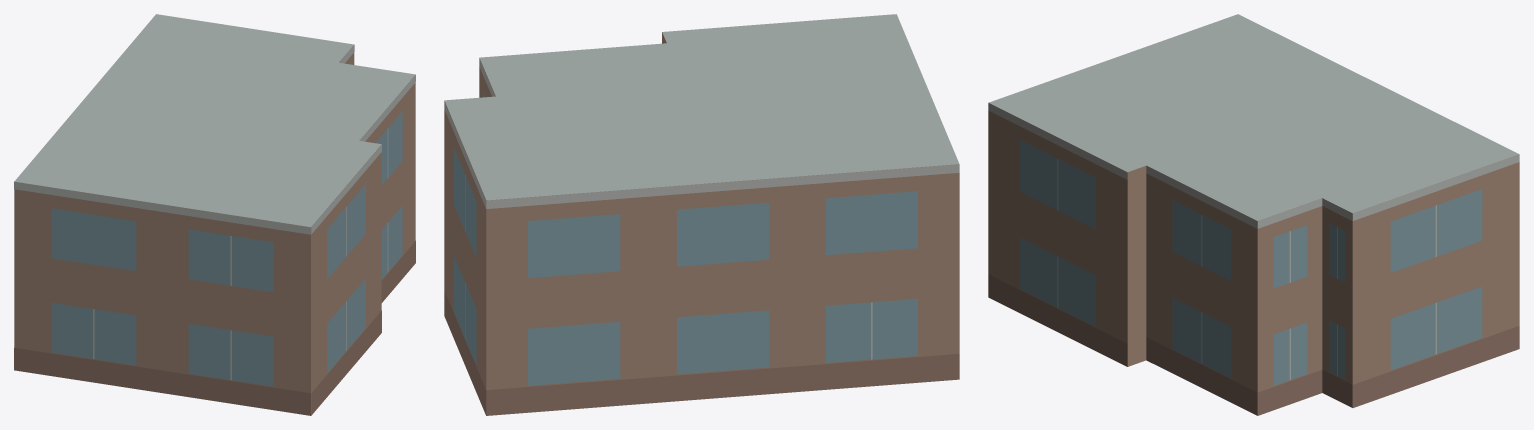
Rendered from survey-upis-32805963.glb.
3 renders of one model, left to right at view 1: azimuth 30°, elevation 25°; view 2: azimuth 150°, elevation 25°; view 3: azimuth 270°, elevation 25°, orthographic. The views are drawn at different scales.
Parts seen in each view (by area): view 1: survey-upis-32805963.tmp; view 2: survey-upis-32805963.tmp; view 3: survey-upis-32805963.tmp.
Boxes of the visible parts, left/top/right/bottom form: survey-upis-32805963.tmp: left=14, top=14, right=415, bottom=415; survey-upis-32805963.tmp: left=444, top=14, right=959, bottom=415; survey-upis-32805963.tmp: left=988, top=14, right=1519, bottom=415.
Bounding box in the file's own units: 13.92 × 6.1 × 15.09.
